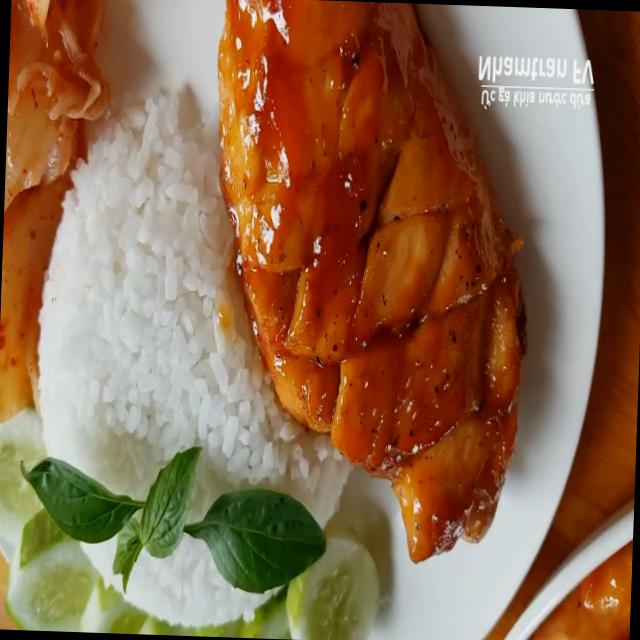com: (38, 84, 350, 525), (126, 537, 265, 625)
dua leo: (8, 512, 99, 632), (285, 539, 379, 640), (0, 410, 44, 544)
ga kho: (219, 0, 525, 561)
